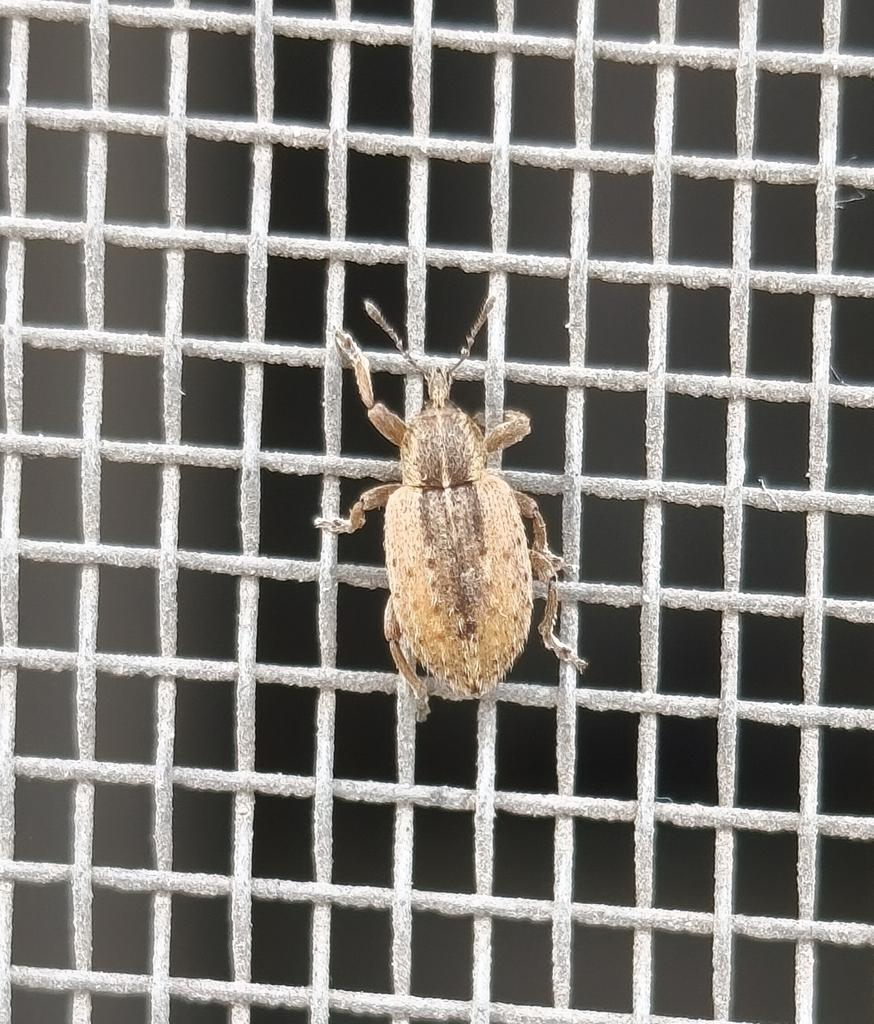weevils: (227, 250, 680, 801)
